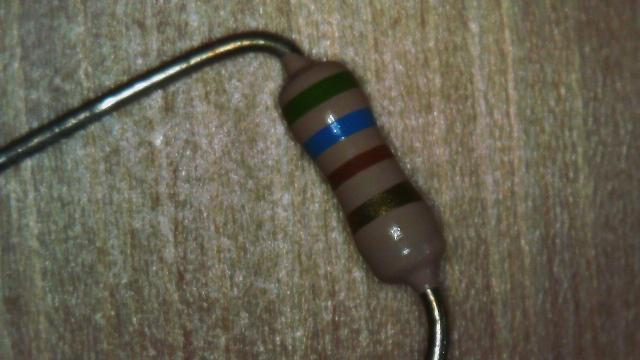blue: (304, 107, 376, 159)
brown: (326, 144, 394, 190)
gold: (348, 182, 421, 232)
green: (282, 70, 358, 125)
resistor: (226, 19, 484, 321)
